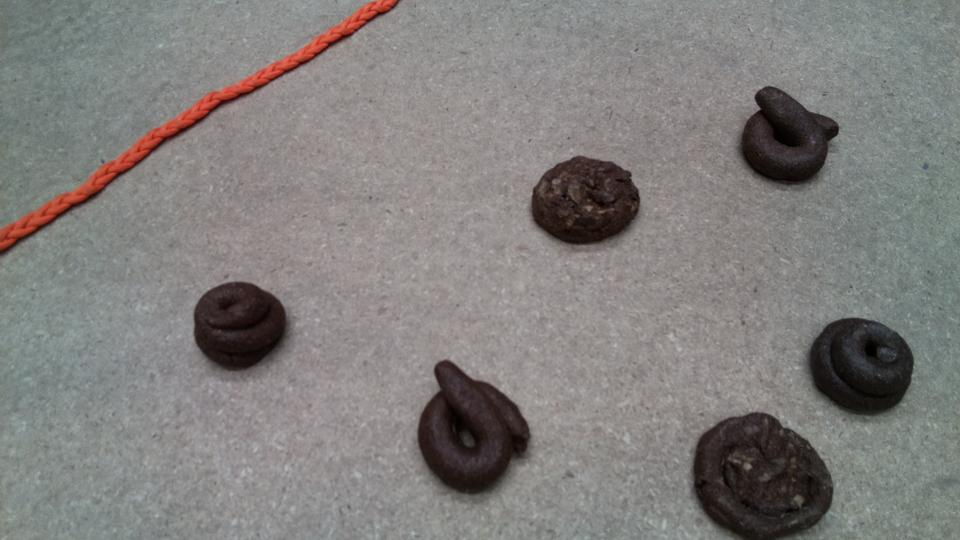poop: (690, 410, 839, 539), (413, 356, 531, 495), (808, 314, 917, 418), (740, 83, 843, 188), (529, 152, 644, 246), (191, 278, 289, 373)
rope: (1, 1, 393, 241)
